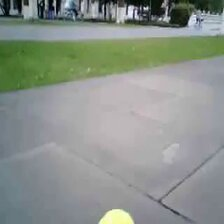tennis: (97, 208, 136, 224)
